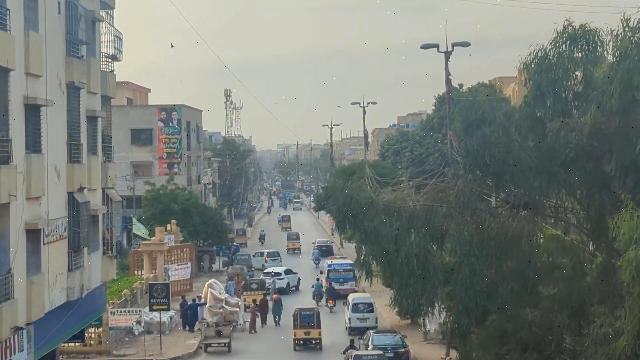Car: (359, 327, 412, 360), (261, 266, 302, 293), (252, 251, 282, 270)
Cart: (198, 324, 237, 354)
Person: (270, 290, 285, 328), (185, 297, 200, 333), (247, 297, 261, 335), (177, 294, 189, 332), (258, 292, 270, 330), (195, 295, 205, 324)
Rickshaw: (291, 307, 324, 355), (241, 277, 266, 310)
Van: (321, 254, 359, 297), (343, 292, 379, 337)
